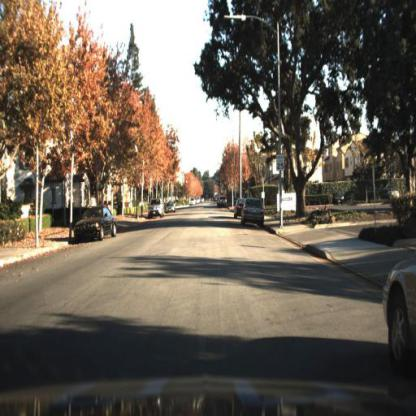car: (383, 258, 416, 372), (73, 204, 123, 241), (240, 195, 267, 226), (146, 195, 166, 224), (332, 188, 348, 207)
